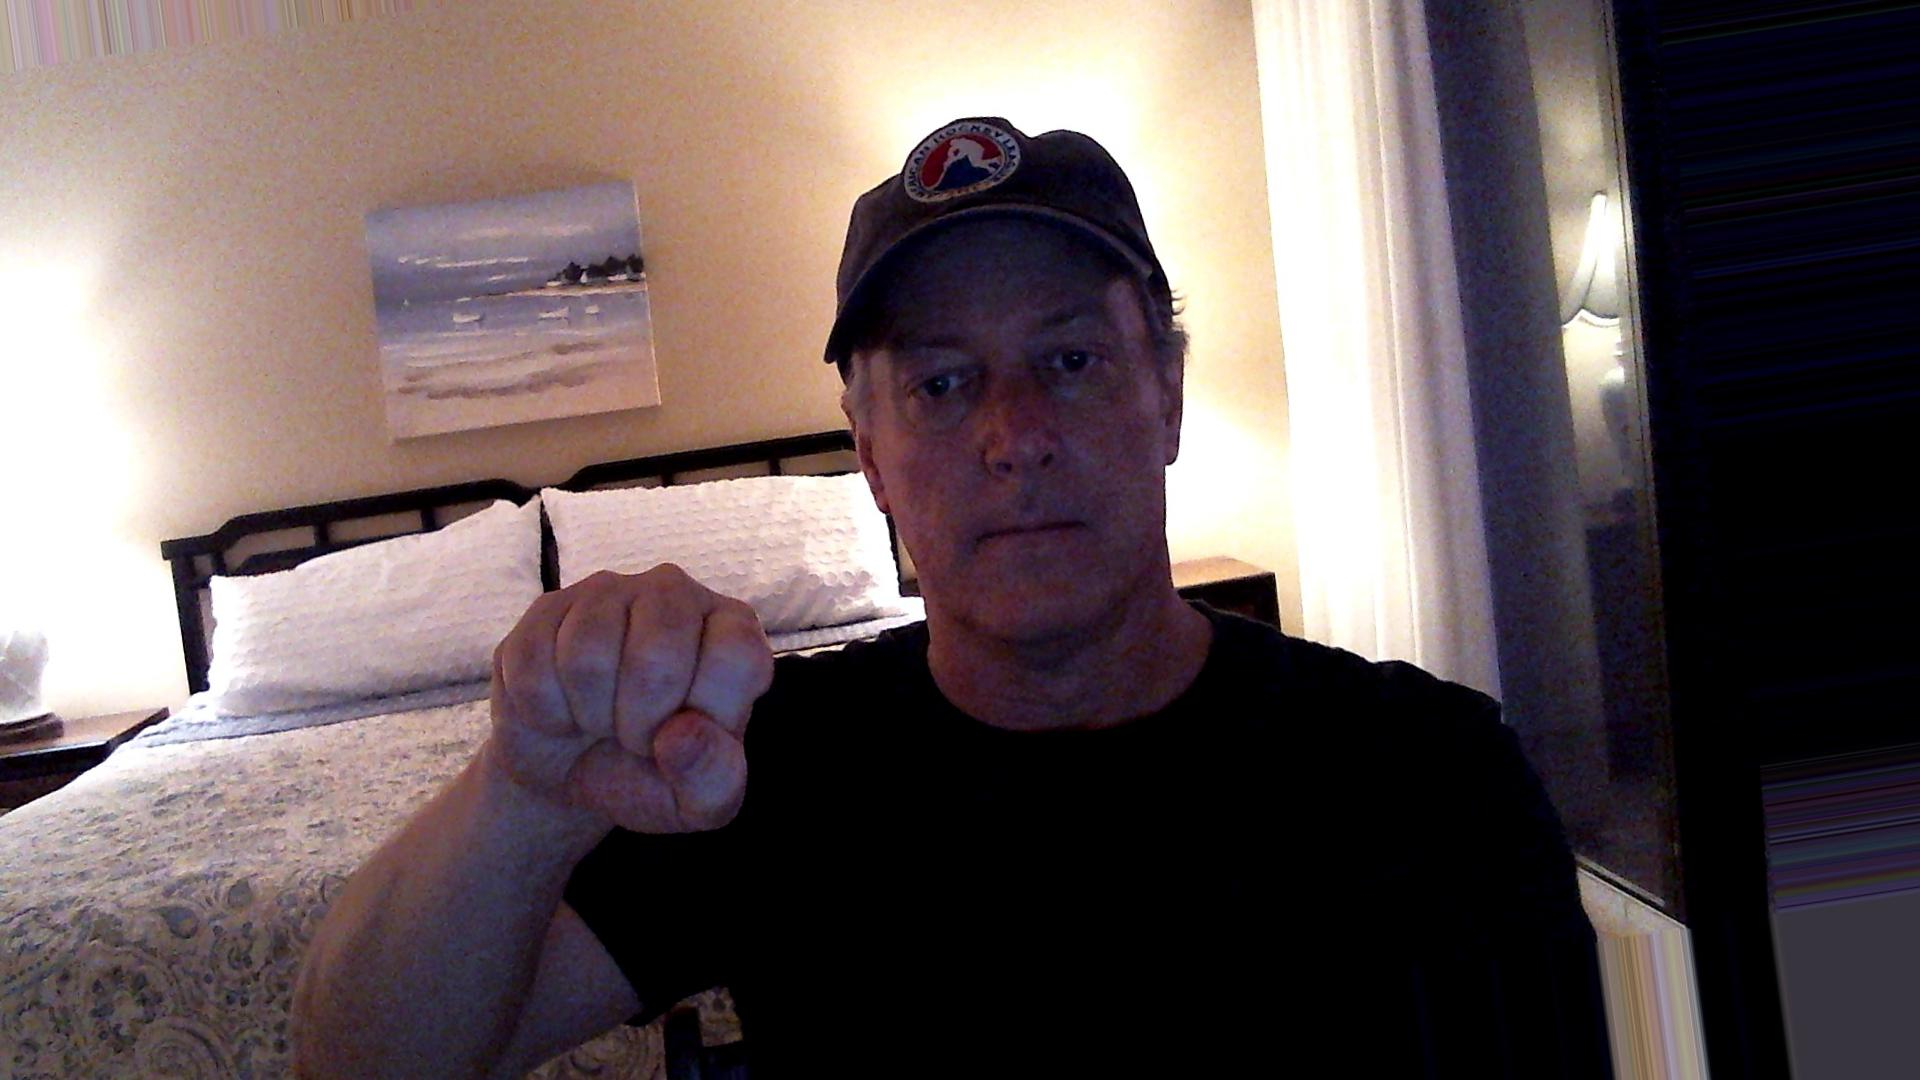Yes: (473, 553, 818, 855)
